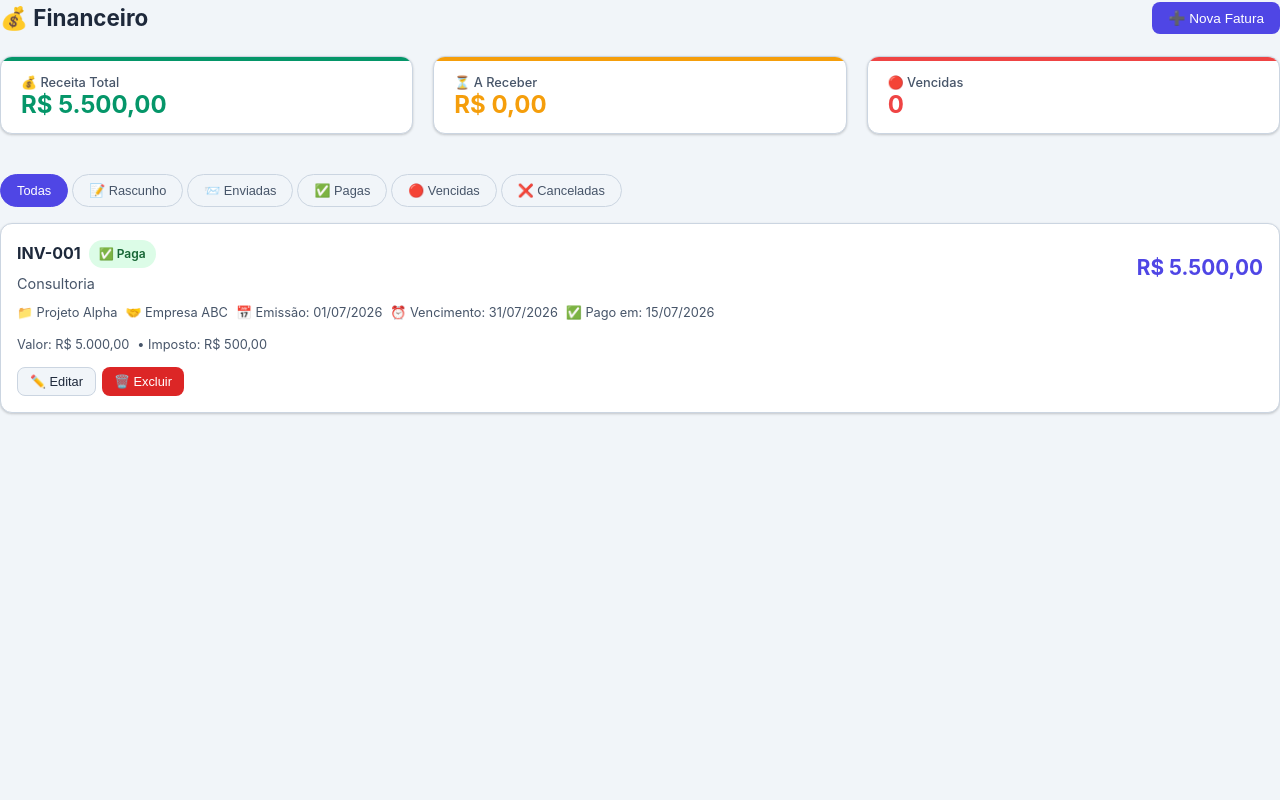
Test: Finance › opens edit modal with pre-filled data
The image size is (1280, 800).
Step 1. Click the button "✏️ Editar" → (56, 382), box x1=17 y1=368 x2=96 y2=396
(page scrolled)
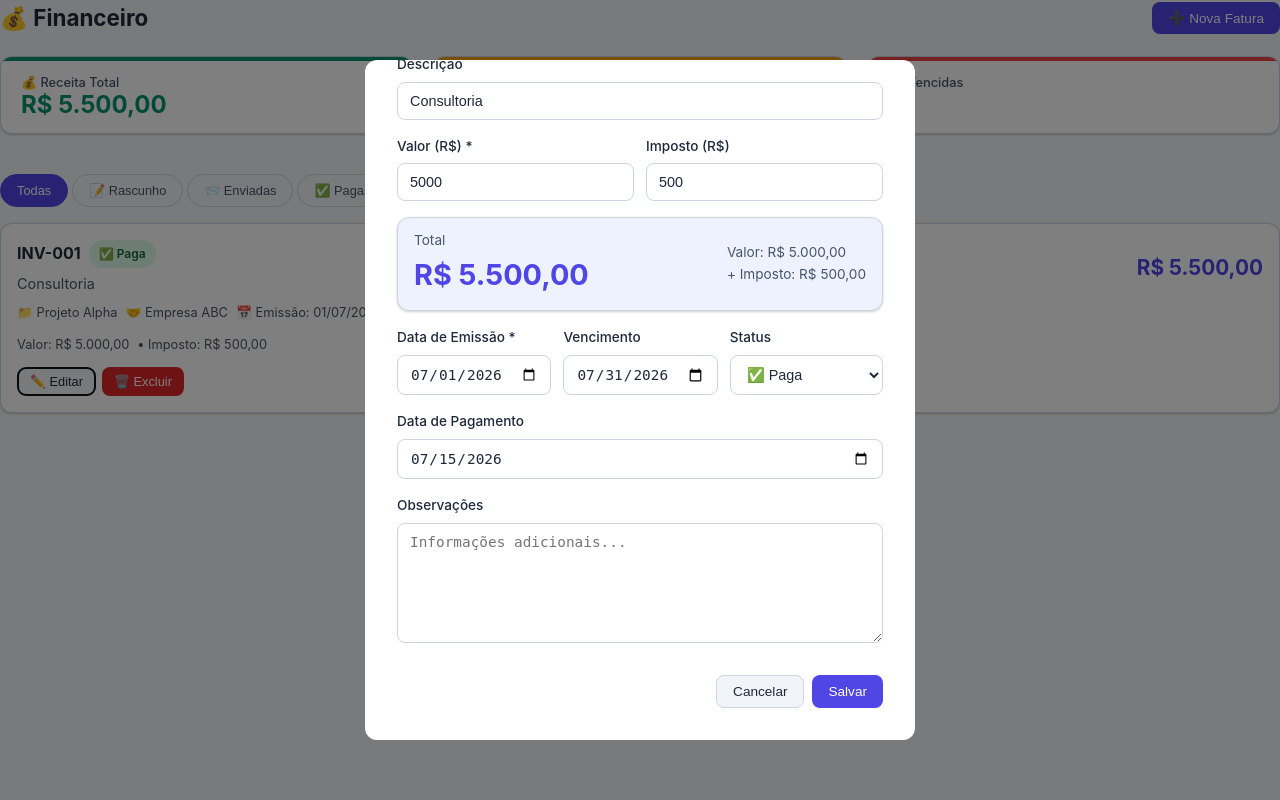
Expected: the button "Salvar" is shown, x1=812 y1=675 x2=883 y2=708
